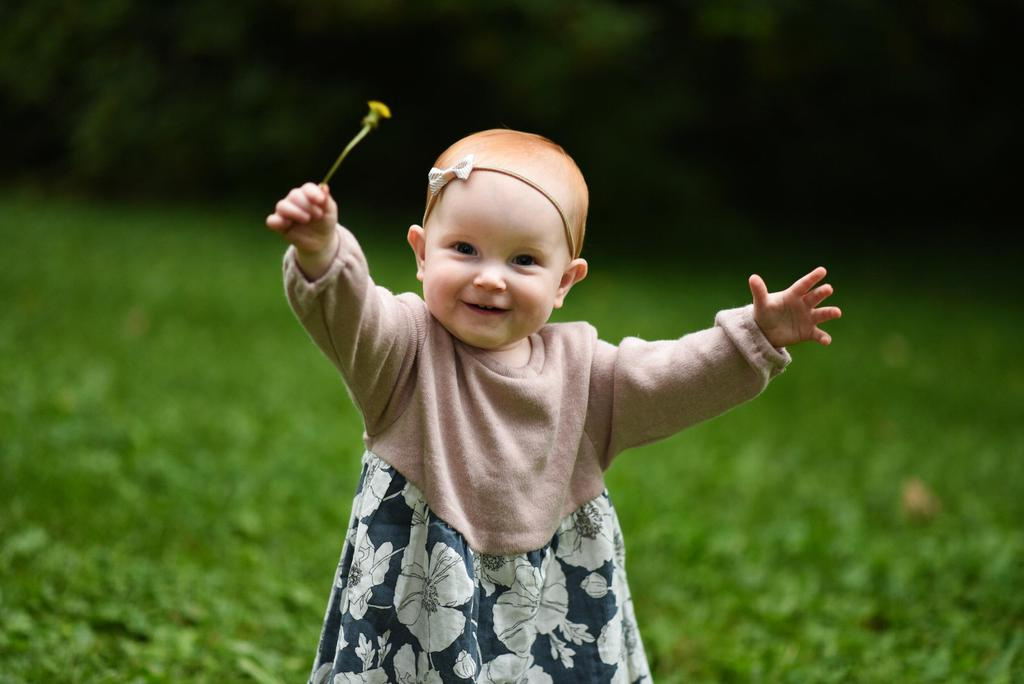child: (250, 95, 842, 661)
